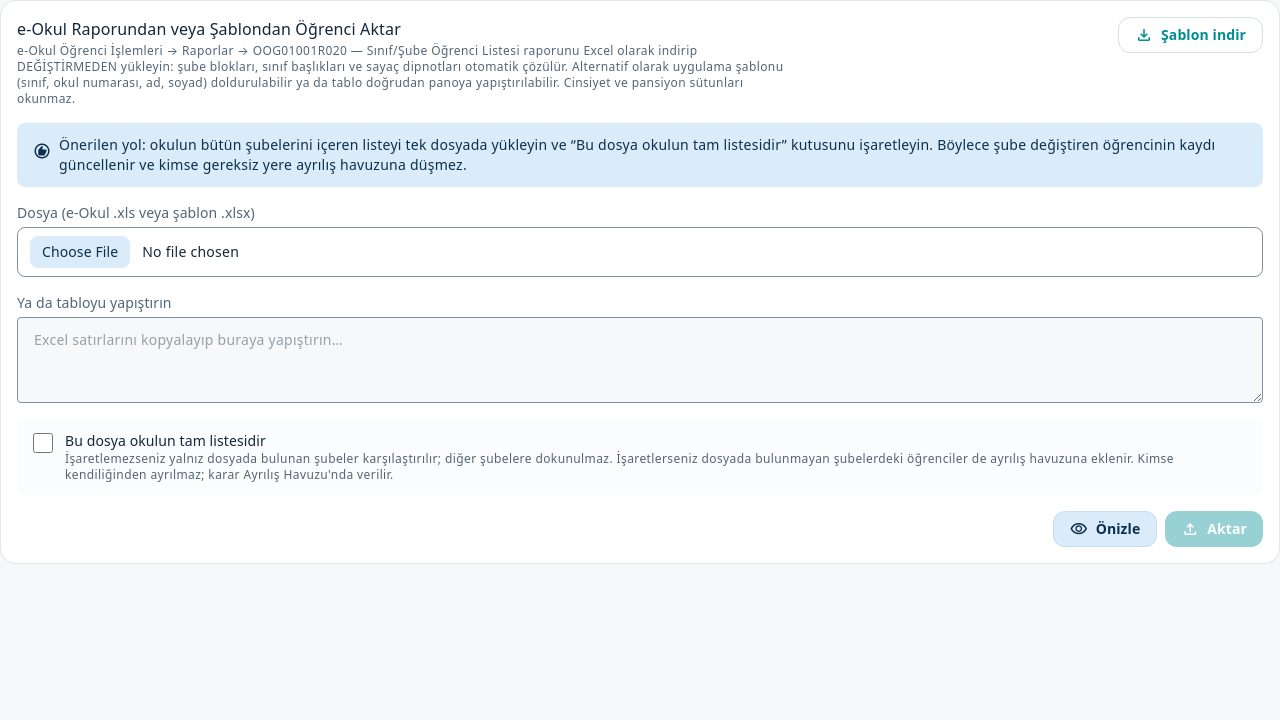
it: AktarimPaneli — öğrenci mutabakatı ve ayrılış havuzu › girdi yokken önizleme istek atmaz, yönlendirir
Click the button "Önizle" at (1105, 529), box x1=1053 y1=511 x2=1157 y2=547
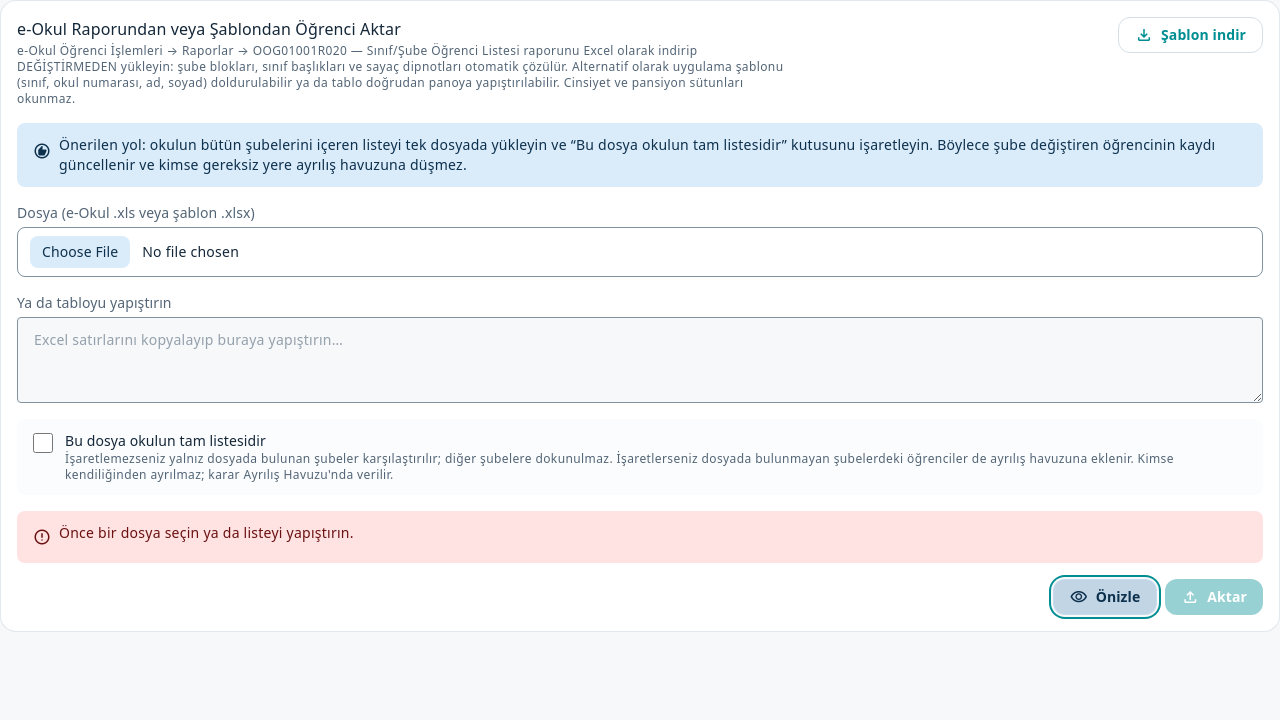
Check: the text "Önce bir dosya seçin ya da listeyi yapıştırın." is shown, box x1=59 y1=523 x2=354 y2=543
